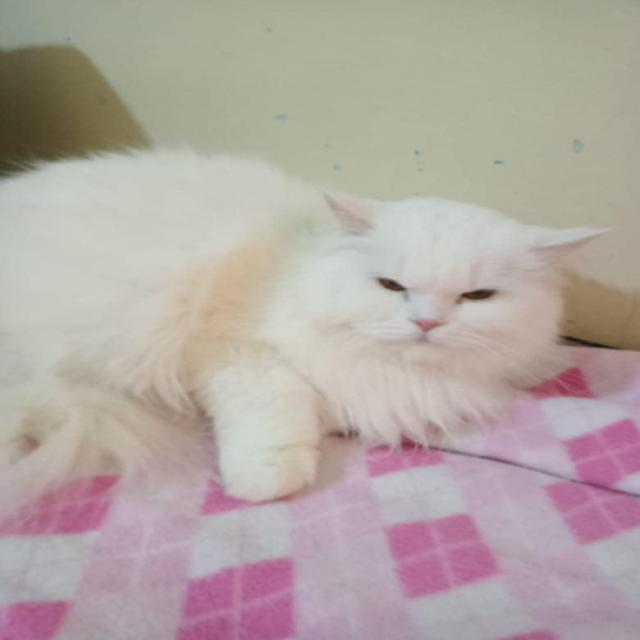persian_cat: (280, 180, 615, 388)
